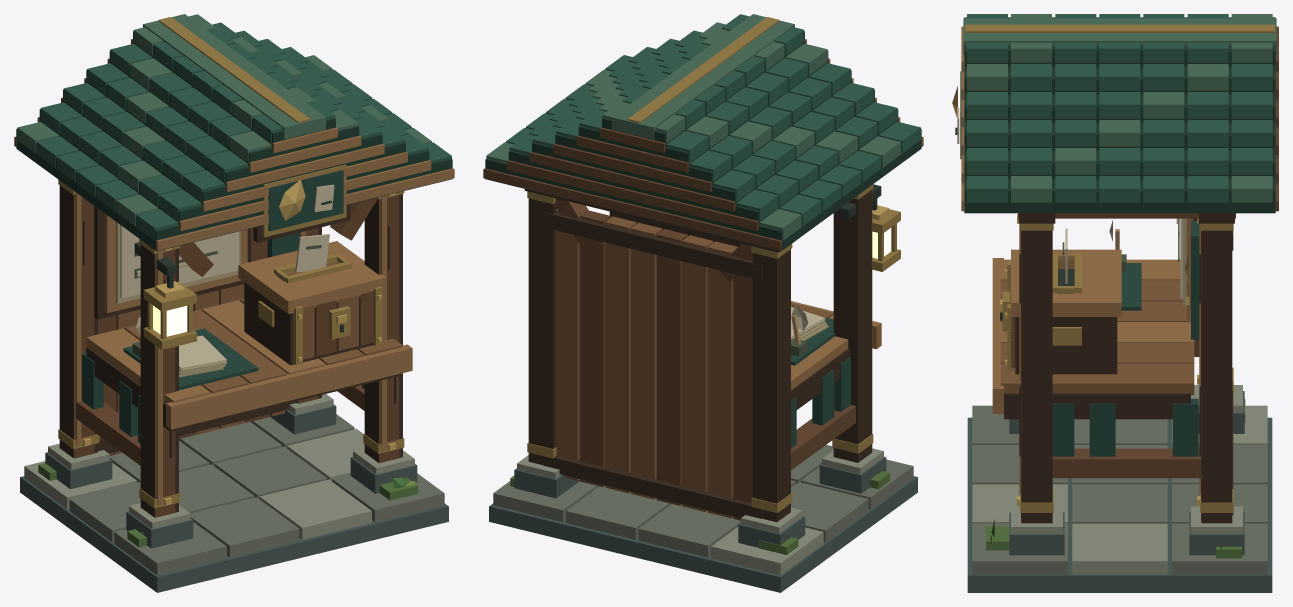
File: poll-booth.glb
The picture shows the model from 3 angles, left to right: view 1: azimuth 30°, elevation 25°; view 2: azimuth 150°, elevation 25°; view 3: azimuth 270°, elevation 25°; orthographic projection. The views are drawn at different scales.
Parts seen in each view (by area): view 1: poll-booth-body, poll-booth-lantern-glow; view 2: poll-booth-body; view 3: poll-booth-body.
Boxes of the visible parts, x1,y1,x2,y2 form: poll-booth-body: (14,14,454,592); poll-booth-lantern-glow: (153,305,187,336); poll-booth-body: (483,14,923,592); poll-booth-body: (952,14,1278,592).
Bounding box in the file's own units: 2.2 × 3.1 × 1.89.
